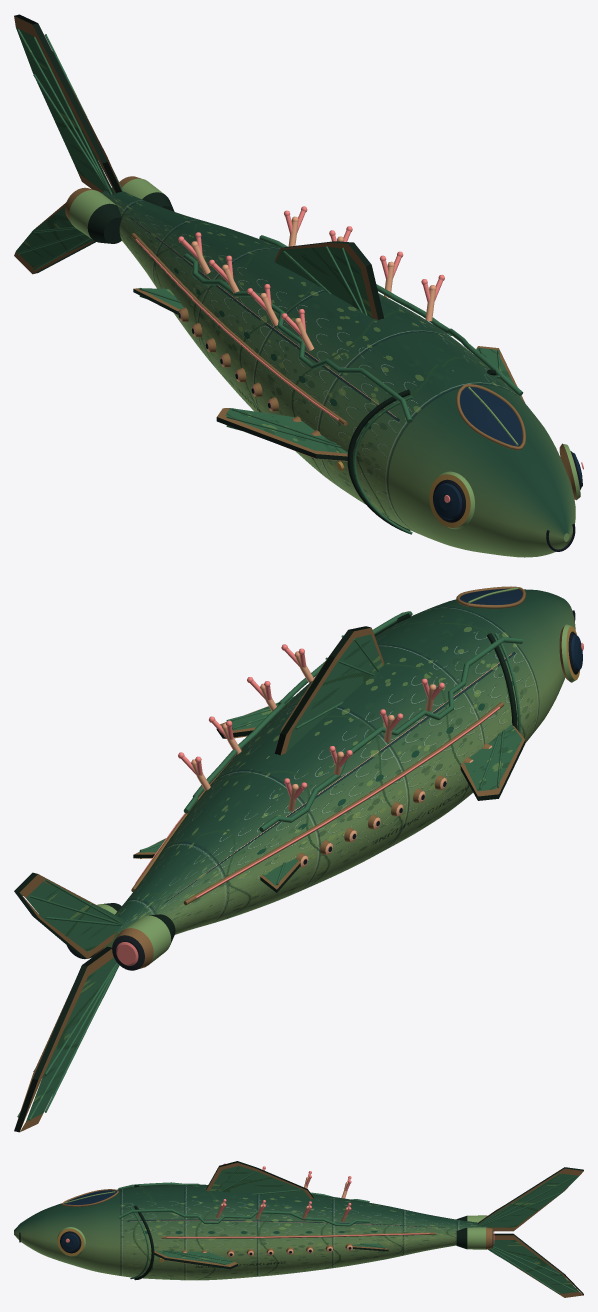
The picture shows the model from 3 angles, top to bottom: view 1: azimuth 30°, elevation 25°; view 2: azimuth 150°, elevation 25°; view 3: azimuth 270°, elevation 25°; orthographic projection. The views are drawn at different scales.
Visible parts, largest first — view 1: sardine_hull; view 2: sardine_hull; view 3: sardine_hull.
Boxes of the visible parts, x1,y1,x2,y2 form: sardine_hull: [14, 14, 583, 557]; sardine_hull: [14, 586, 583, 1132]; sardine_hull: [14, 1161, 583, 1297].
Size of the model in its own units: 4.8 by 4.25 by 16.2.
Materials: 1 (1 with a texture image).
